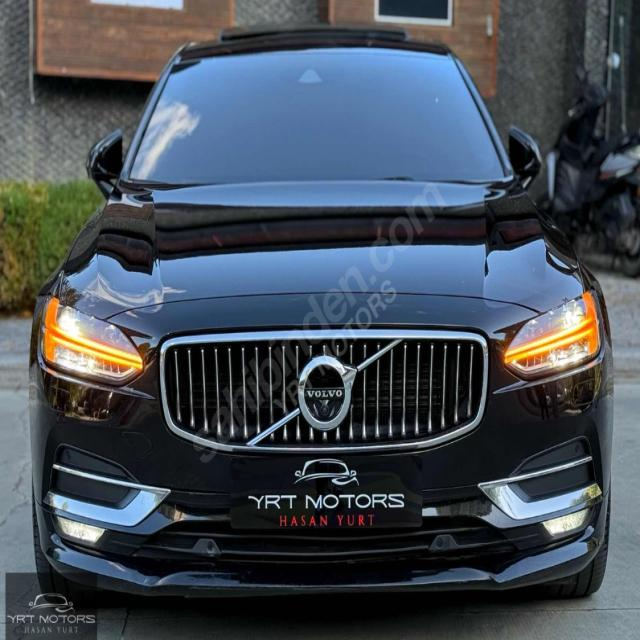volvo: (298, 355, 357, 431)
